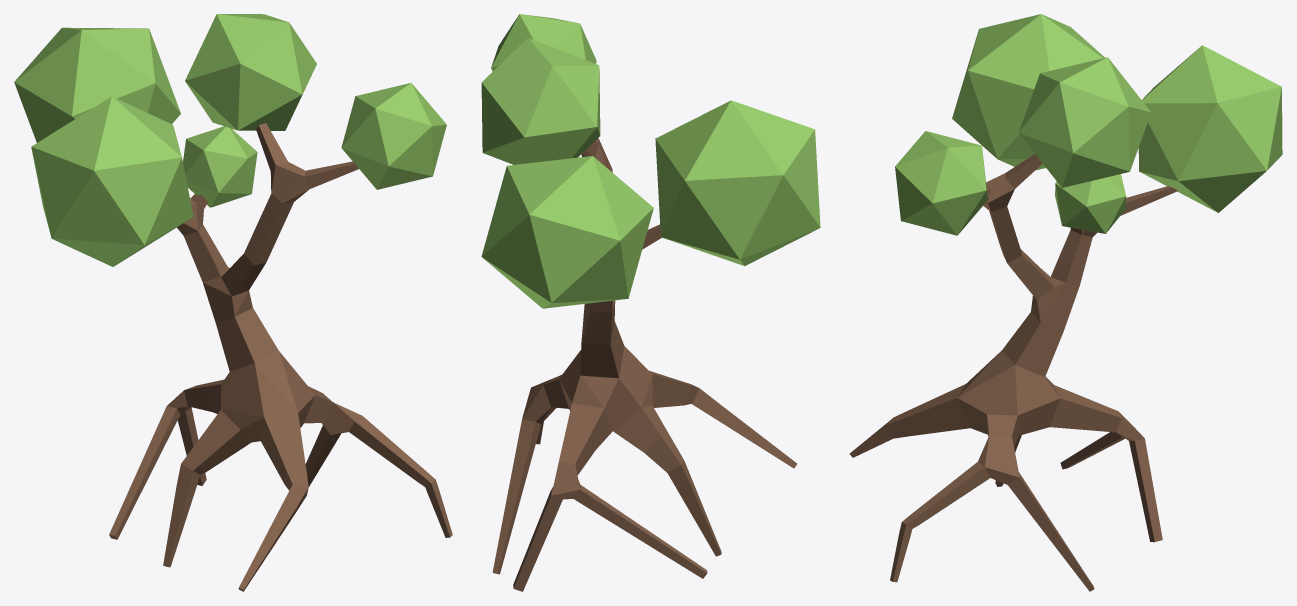
The model's file is Manglar.fbx.
3 renders of one model, left to right at view 1: azimuth 30°, elevation 25°; view 2: azimuth 150°, elevation 25°; view 3: azimuth 270°, elevation 25°, orthographic. The views are drawn at different scales.
Visible parts, largest first — view 1: Cube.063, Icosphere.006, Icosphere.007, Icosphere.009, Icosphere.008, Icosphere.010; view 2: Cube.063, Icosphere.006, Icosphere.007, Icosphere.009, Icosphere.008; view 3: Cube.063, Icosphere.007, Icosphere.009, Icosphere.006, Icosphere.008, Icosphere.010.
Part boxes in pixels (<box>): Cube.063: <box>109,123,452,591</box>; Icosphere.006: <box>31,96,193,266</box>; Icosphere.007: <box>14,27,180,142</box>; Icosphere.009: <box>185,14,316,130</box>; Icosphere.008: <box>341,83,446,189</box>; Icosphere.010: <box>183,126,257,207</box>; Cube.063: <box>492,138,797,591</box>; Icosphere.006: <box>655,100,820,266</box>; Icosphere.007: <box>481,156,653,308</box>; Icosphere.009: <box>481,38,600,164</box>; Icosphere.008: <box>491,14,596,71</box>; Cube.063: <box>849,154,1177,591</box>; Icosphere.007: <box>1138,45,1282,212</box>; Icosphere.009: <box>1018,57,1151,187</box>; Icosphere.006: <box>952,14,1104,170</box>; Icosphere.008: <box>895,131,987,235</box>; Icosphere.010: <box>1055,174,1126,233</box>.
Size of the model in its own units: 2.05 by 2.84 by 2.22.
